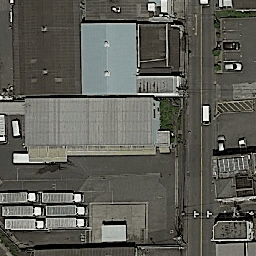car: (40, 191, 85, 204), (3, 218, 46, 231), (1, 205, 43, 217), (45, 205, 86, 217), (1, 190, 36, 204), (45, 218, 86, 228), (223, 61, 244, 72), (201, 104, 211, 126), (216, 133, 227, 153), (10, 118, 21, 138), (222, 40, 241, 51), (1, 112, 7, 144), (236, 137, 248, 153)
